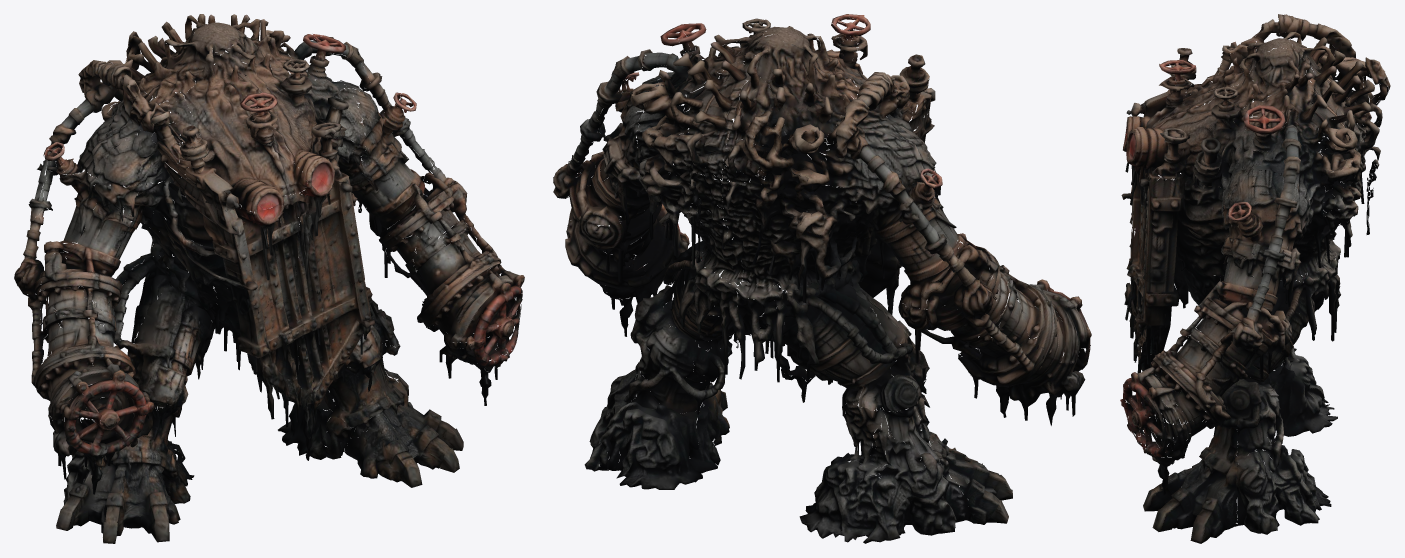
The model's file is hb_sluice.glb.
The picture shows the model from 3 angles, left to right: view 1: azimuth 30°, elevation 25°; view 2: azimuth 150°, elevation 25°; view 3: azimuth 270°, elevation 25°; orthographic projection. The views are drawn at different scales.
Visible parts, largest first — view 1: world; view 2: world; view 3: world.
Part boxes in pixels (bbox=[...]): world: bbox=[14, 14, 524, 543]; world: bbox=[553, 14, 1091, 543]; world: bbox=[1120, 14, 1390, 543].
Size of the model in its own units: 0.9998 by 0.896 by 0.535.
Materials: 1 (1 with a texture image).
